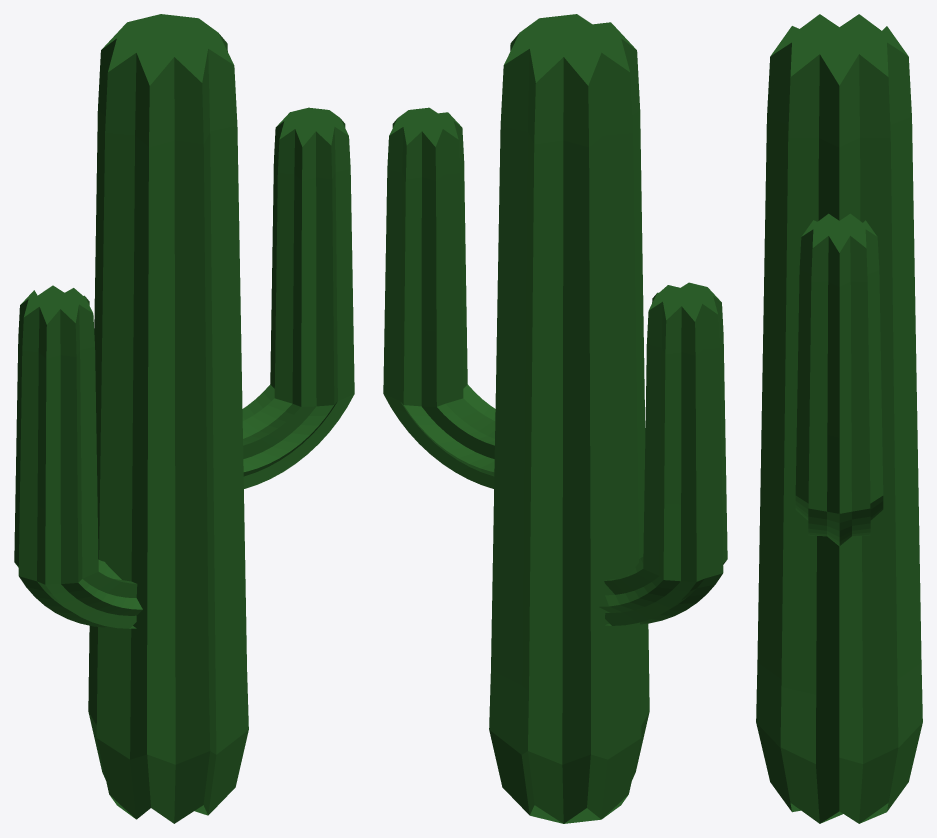
Rendered from Desert_Plant_Kaktus_Big.fbx.
3 renders of one model, left to right at view 1: azimuth 30°, elevation 25°; view 2: azimuth 150°, elevation 25°; view 3: azimuth 270°, elevation 25°, orthographic.
Visible parts, largest first — view 1: Cylinder.075; view 2: Cylinder.075; view 3: Cylinder.075.
Part boxes in pixels (bbox=[...]): Cylinder.075: bbox=[14, 14, 354, 823]; Cylinder.075: bbox=[383, 14, 727, 823]; Cylinder.075: bbox=[756, 14, 922, 823].
Bounding box in the file's own units: 114 × 251 × 49.34.
